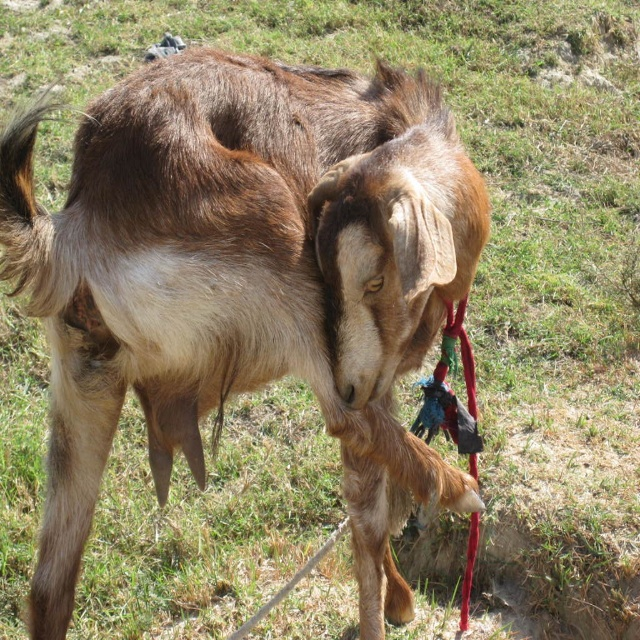Goat: (0, 40, 493, 640)
